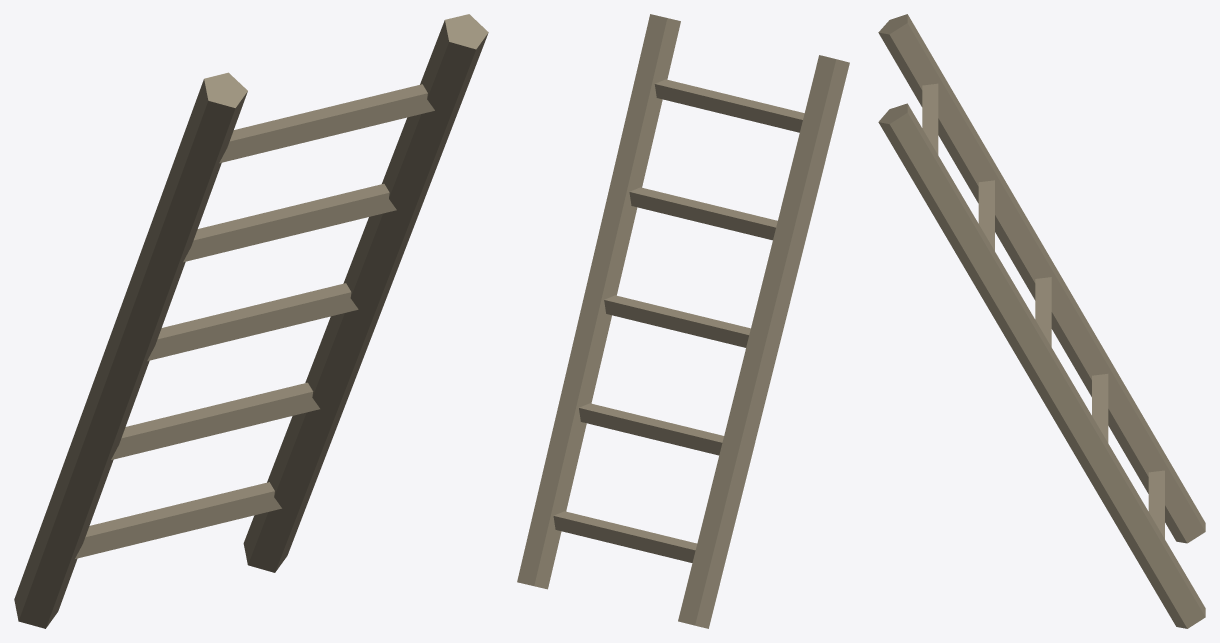
The model's file is LadderTop.fbx.
The picture shows the model from 3 angles, left to right: view 1: azimuth 30°, elevation 25°; view 2: azimuth 150°, elevation 25°; view 3: azimuth 270°, elevation 25°; orthographic projection. The views are drawn at different scales.
Parts seen in each view (by area): view 1: LadderTop; view 2: LadderTop; view 3: LadderTop.
Boxes of the visible parts, x1=… form: LadderTop: x1=14, y1=14, x2=488, y2=628; LadderTop: x1=517, y1=14, x2=849, y2=628; LadderTop: x1=878, y1=14, x2=1205, y2=628.
Bounding box in the file's own units: 0.5381 × 1.25 × 0.714.
